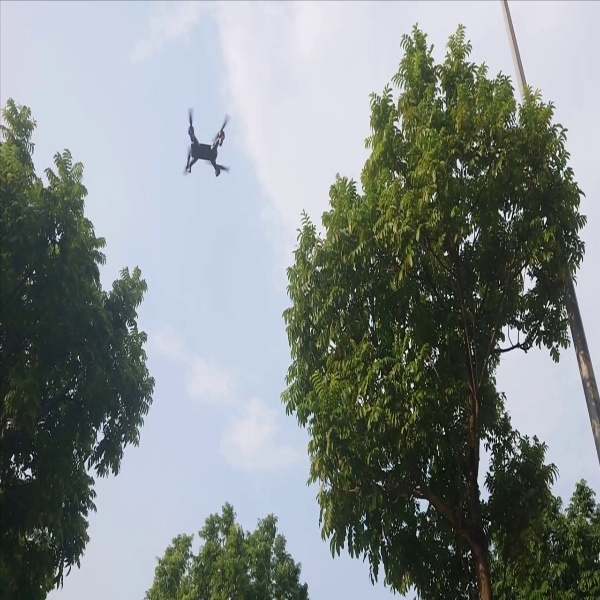drone: (163, 95, 241, 185)
